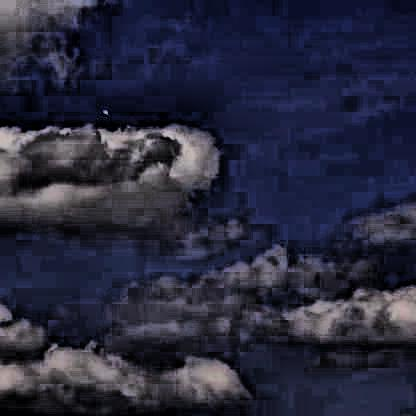golfball: (99, 107, 107, 114)
